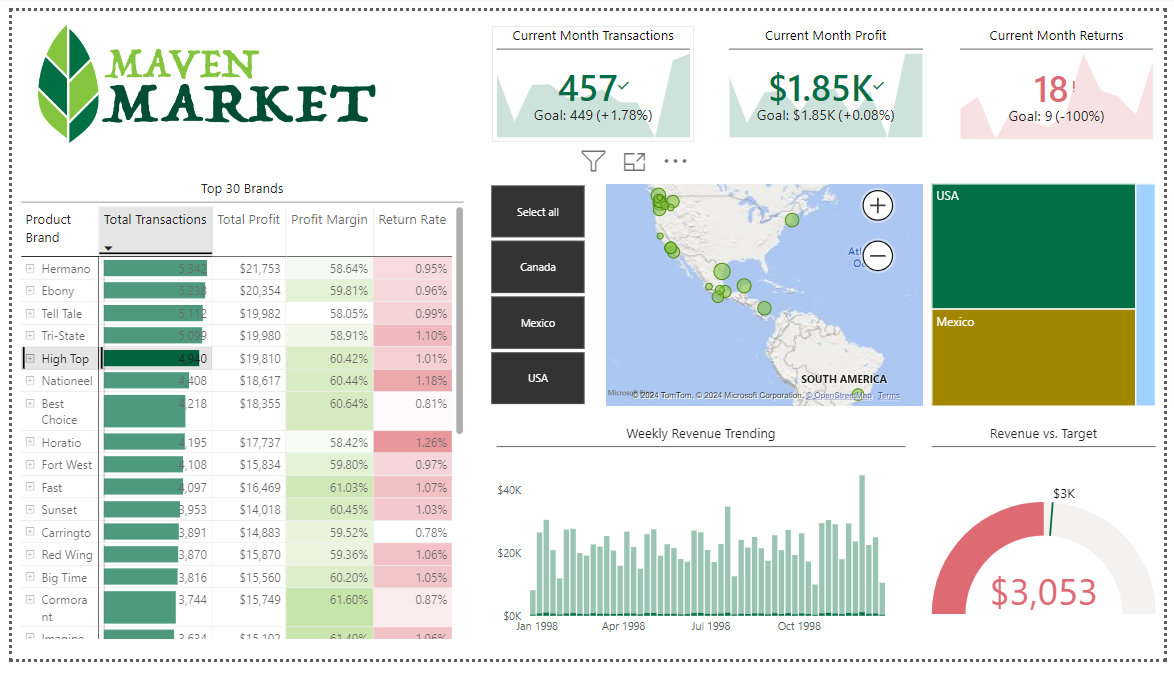

The page's visual inventory and layout, read from the dashboard file:
{"tool":"powerbi","page":{"name":"Topline Performance","canvas":[1280,720],"ordinal":0},"visuals":[{"type":"image","box":[5.7,0,418.9,160.4],"z":0},{"type":"pivotTable","title":"Top 30 Brands","fields":{"Values":["Measure.Total Transactions","Measure.Total Profit","Measure.Profit Margin","Measure.Return Rate"],"Rows":["Products Lookup.product_brand","Products Lookup.product_name"]},"box":[5,186.7,501.7,515],"z":1000},{"type":"kpi","title":"Current Month Transactions","fields":{"Indicator":["Measure.Total Transactions"],"TrendLine":["Calendar.Start of Month"],"Goal":["Measure.Last Month Transactions"]},"box":[534,17,225,128.3],"z":2000},{"type":"kpi","title":"Current Month Profit","fields":{"TrendLine":["Calendar.Start of Month"],"Indicator":["Measure.Total Profit"],"Goal":["Measure.Last Month Profit"]},"box":[791.5,17,225,128.3],"z":3000},{"type":"kpi","title":"Current Month Returns","fields":{"TrendLine":["Calendar.Start of Month"],"Indicator":["Measure.Total Returns"],"Goal":["Measure.Last Month Returns"]},"box":[1049.1,17,224.5,130.2],"z":4000},{"type":"map","fields":{"Category":["Stores Lookup.store_city"],"Size":["Measure.Total Transactions"]},"box":[639.3,187.5,376.8,257.1],"z":5000},{"type":"slicer","fields":{"Values":["Stores Lookup.store_country"]},"box":[507.1,187.5,153.6,257.1],"z":6000},{"type":"treemap","fields":{"Values":["Measure.Total Transactions"],"Group":["Stores Lookup.store_country","Stores Lookup.store_state","Stores Lookup.store_city"]},"box":[1016.5,186.9,258.5,257],"z":7000},{"type":"columnChart","title":"Weekly Revenue Trending","fields":{"Y":["Measure.Total Revenue"],"Category":["Calendar.Start of Week"]},"box":[533.9,458.9,464.3,242.9],"z":8000},{"type":"gauge","title":"Revenue vs. Target","fields":{"Y":["Measure.Total Revenue"],"TargetValue":["Measure.Revenue Target"]},"box":[1016,459,259,243],"z":9000}]}

Visuals, with their boxes in screenshot pixels (x1, y1, x2, y2), scaled from the page's 1280x720 canvas onto the 1174x676 screenshot:
image: select_region(5, 0, 389, 151)
"Top 30 Brands" pivotTable: select_region(5, 175, 465, 659)
"Current Month Transactions" kpi: select_region(490, 16, 696, 136)
"Current Month Profit" kpi: select_region(726, 16, 932, 136)
"Current Month Returns" kpi: select_region(962, 16, 1168, 138)
map - Stores Lookup.store_city x Measure.Total Transactions: select_region(586, 176, 932, 417)
slicer - Stores Lookup.store_country: select_region(465, 176, 606, 417)
treemap - Measure.Total Transactions x Stores Lookup.store_country: select_region(932, 175, 1169, 417)
"Weekly Revenue Trending" columnChart: select_region(490, 431, 916, 659)
"Revenue vs. Target" gauge: select_region(932, 431, 1169, 659)
